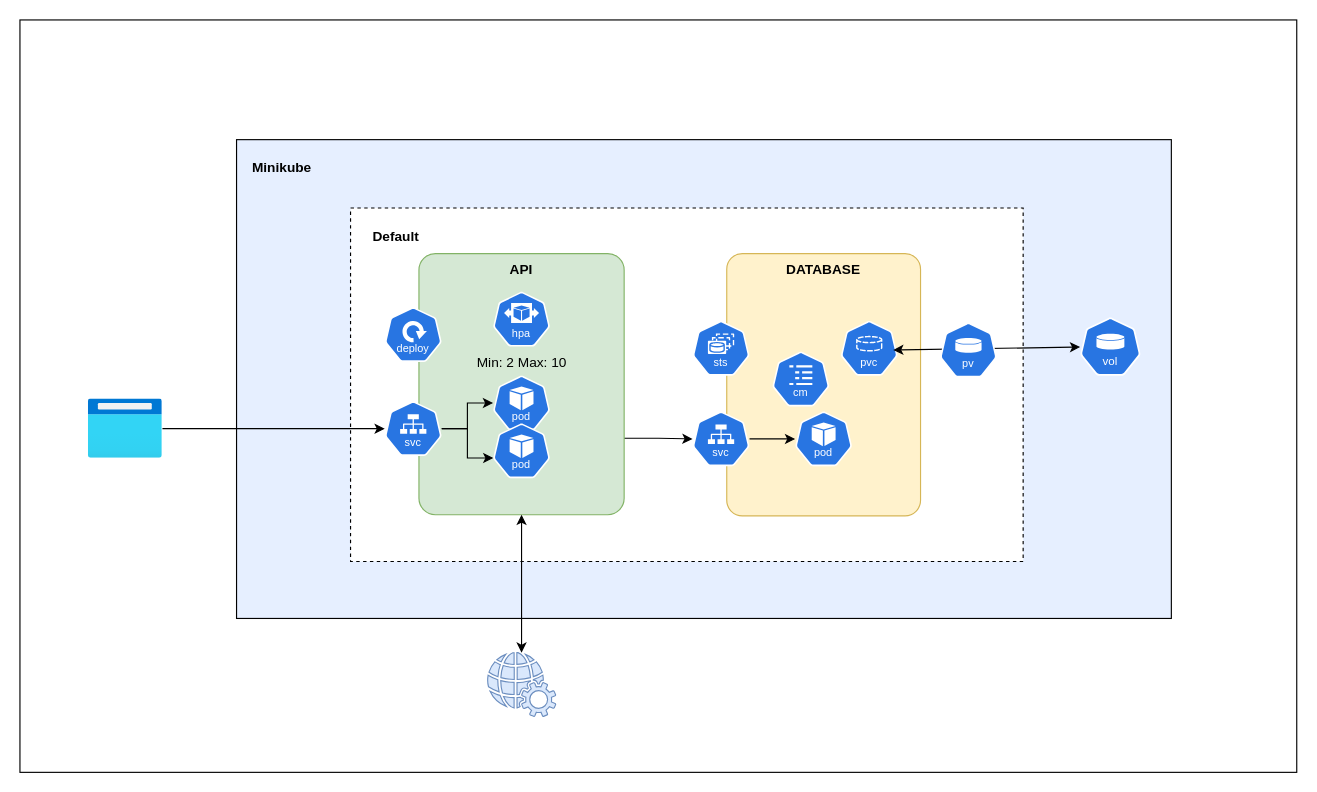
Image size: 1317x792. Some labels were removed from this diagram. The shapes that lost their labels are listed below. From the top down, each one's centre as x and y in pixels, then its label:
pixel 125 428: Totem (user)
pixel 521 684: Payment Service
